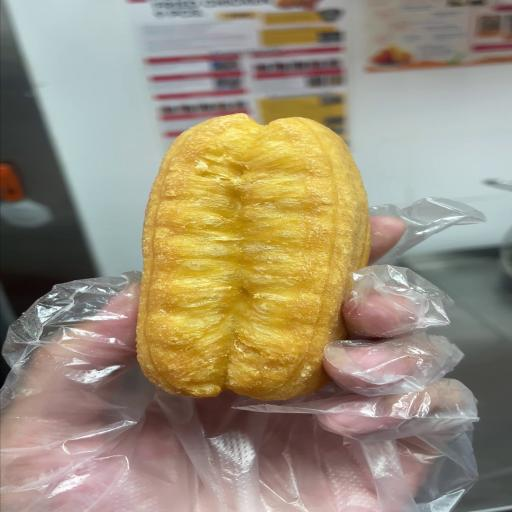brand_golden_good: (137, 114, 369, 400)
